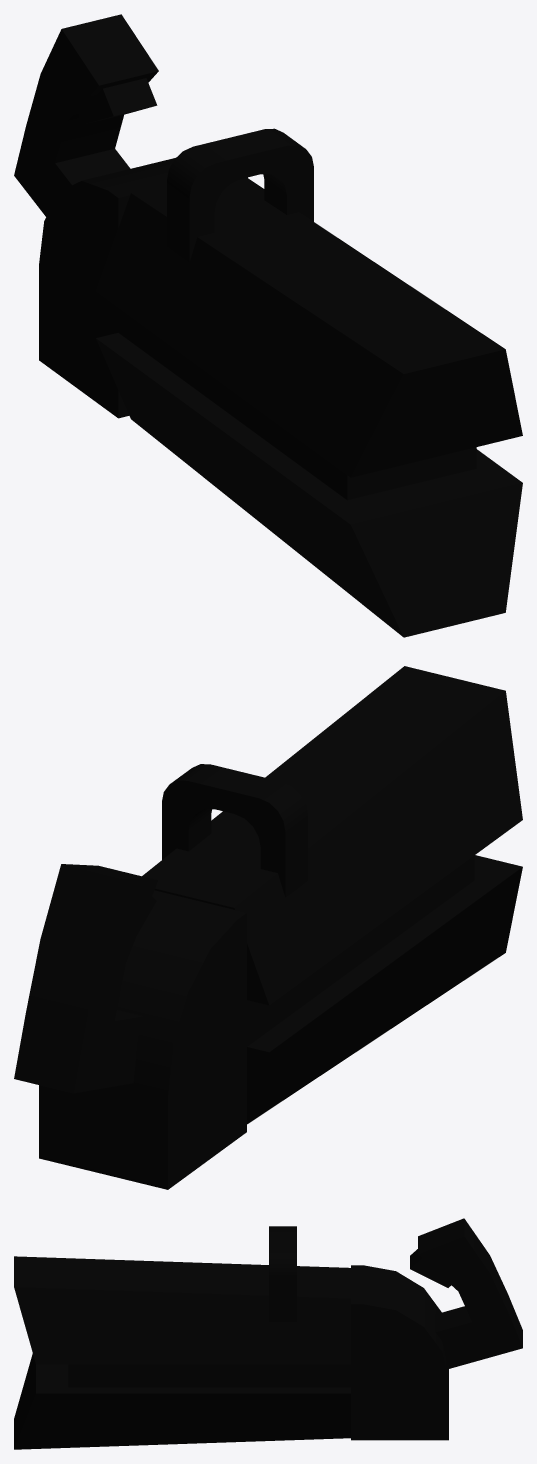
Rendered from Railgun.fbx.
3 renders of one model, top to bottom at view 1: azimuth 30°, elevation 25°; view 2: azimuth 150°, elevation 25°; view 3: azimuth 270°, elevation 25°, orthographic. The views are drawn at different scales.
Visible parts, largest first — view 1: Railgun; view 2: Railgun; view 3: Railgun.
Part boxes in pixels (x1=…): Railgun: x1=14, y1=14, x2=522, y2=637; Railgun: x1=14, y1=666, x2=522, y2=1189; Railgun: x1=14, y1=1218, x2=522, y2=1449.
Size of the model in its own units: 104 by 194 by 432.
